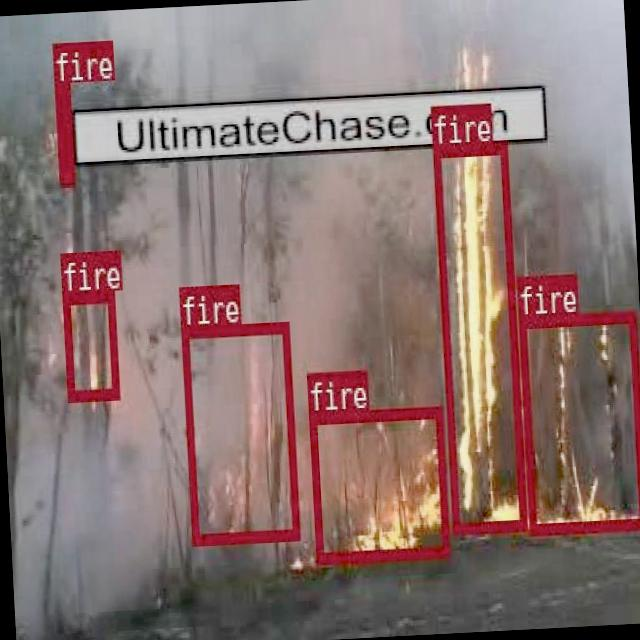fire: (432, 142, 526, 532), (517, 309, 640, 533), (179, 320, 298, 544), (307, 405, 448, 561), (61, 290, 117, 400), (53, 81, 74, 185)
